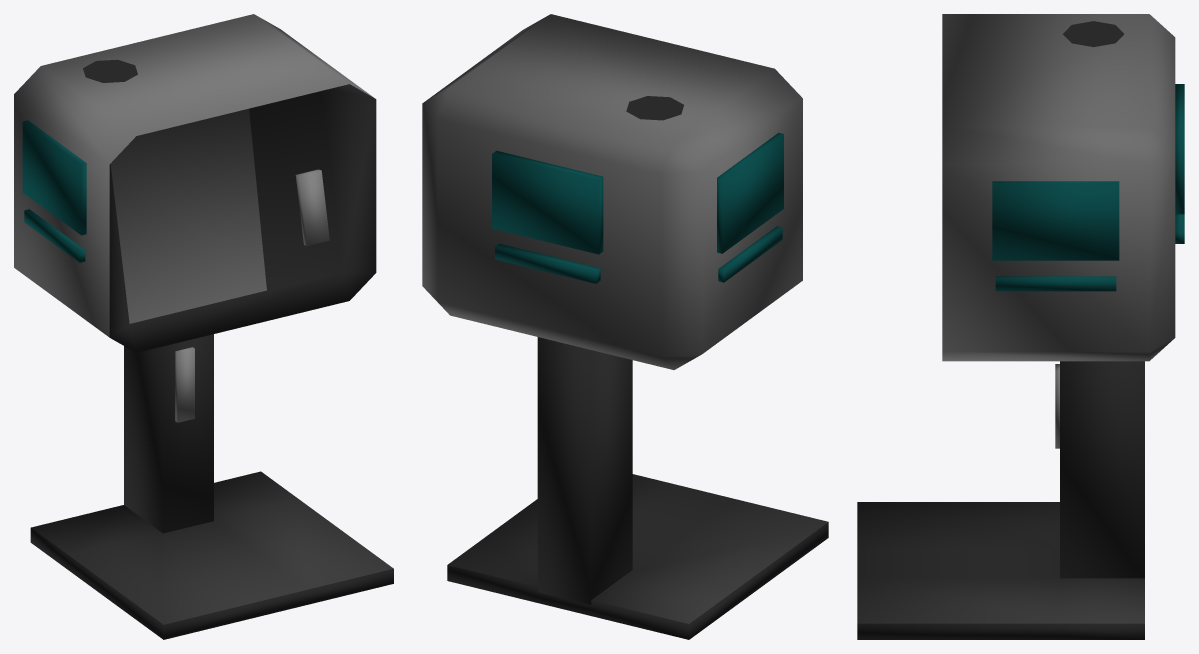
Rendered from furnishings-outdoor-newspaperstand_v4.glb.
3 renders of one model, left to right at view 1: azimuth 30°, elevation 25°; view 2: azimuth 150°, elevation 25°; view 3: azimuth 270°, elevation 25°, orthographic. The views are drawn at different scales.
Visible parts, largest first — view 1: NewspaperStand_v4; view 2: NewspaperStand_v4; view 3: NewspaperStand_v4.
Part boxes in pixels (bbox=[...]): NewspaperStand_v4: bbox=[14, 14, 393, 639]; NewspaperStand_v4: bbox=[422, 14, 828, 639]; NewspaperStand_v4: bbox=[857, 14, 1184, 639].
Bounding box in the file's own units: 0.6271 × 1.03 × 0.5944.
